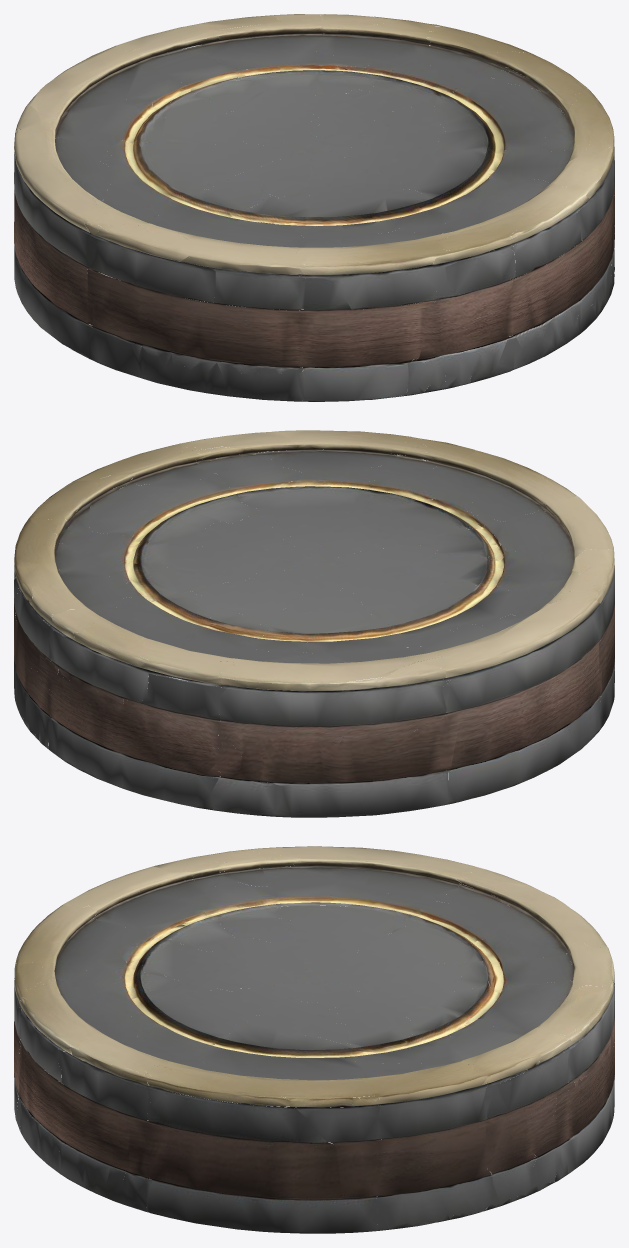
Rendered from holo-hub.glb.
The picture shows the model from 3 angles, top to bottom: view 1: azimuth 30°, elevation 25°; view 2: azimuth 150°, elevation 25°; view 3: azimuth 270°, elevation 25°; orthographic projection.
Visible parts, largest first — view 1: tripo_node_0a012818-1eb2-4c13-b056-a3d885a1f228; view 2: tripo_node_0a012818-1eb2-4c13-b056-a3d885a1f228; view 3: tripo_node_0a012818-1eb2-4c13-b056-a3d885a1f228.
Part boxes in pixels (x1,y1,x2,y2): tripo_node_0a012818-1eb2-4c13-b056-a3d885a1f228: [14, 14, 614, 401]; tripo_node_0a012818-1eb2-4c13-b056-a3d885a1f228: [14, 430, 614, 817]; tripo_node_0a012818-1eb2-4c13-b056-a3d885a1f228: [14, 846, 614, 1233].
Bounding box in the file's own units: 0.5001 × 0.1304 × 0.5.
Materials: 1 (1 with a texture image).
